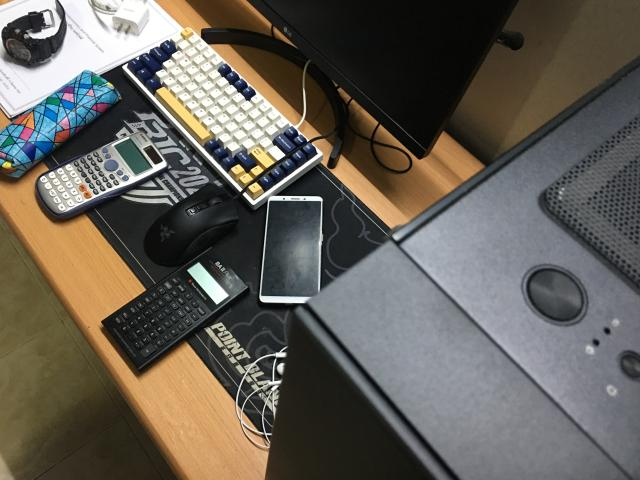Mobile phone: (259, 196, 322, 304)
Mouse: (144, 184, 239, 265)
Watch: (1, 0, 66, 65)
paper: (0, 0, 182, 118)
wire: (89, 0, 149, 35)
